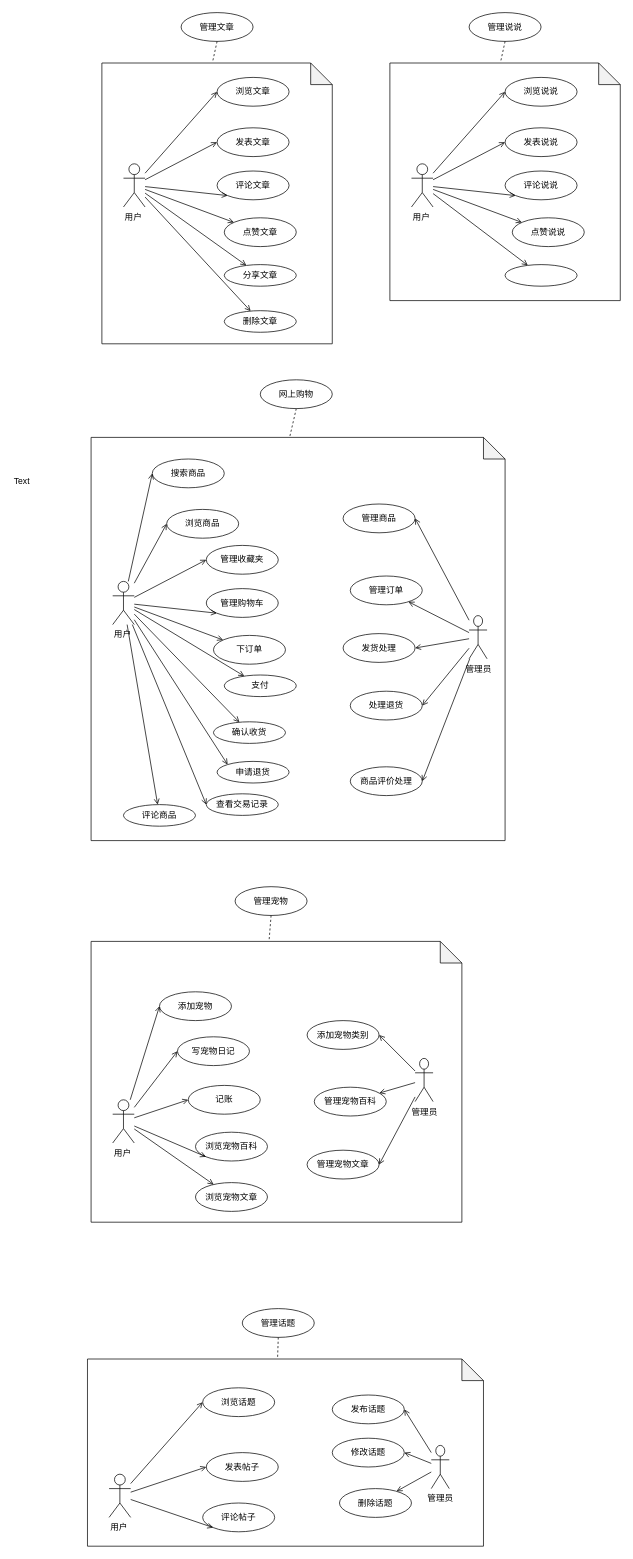
Image size: 633x1559. Some labels were removed from this diagram. Here are the shapes that lost their labels. From the top down, the box of each, then its label:
(389, 62, 620, 301): 管理说说系统用例
(101, 62, 332, 344): 管理文章系统用例
(504, 264, 577, 286): 删除说说
(90, 437, 505, 841): 网上购物系统用例
(90, 941, 462, 1222): 管理宠物系统用例
(87, 1358, 483, 1546): 管理话题系统用例
